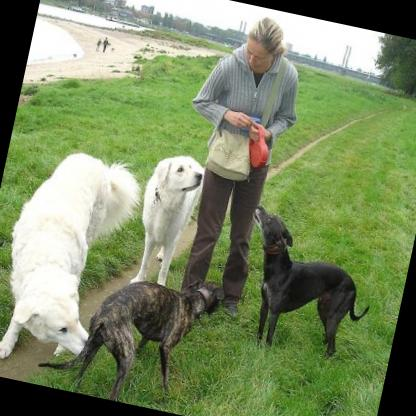kuvasz: (0, 138, 144, 375), (120, 144, 208, 292)
